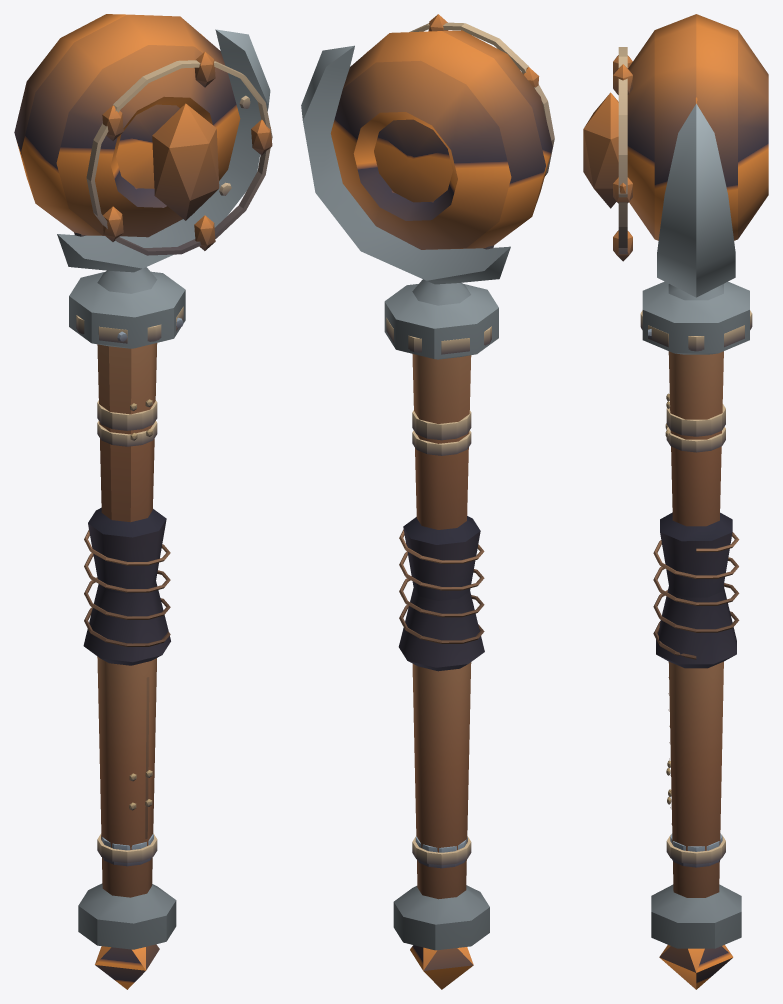
File: baston_runico_t5.glb
3 renders of one model, left to right at view 1: azimuth 30°, elevation 25°; view 2: azimuth 150°, elevation 25°; view 3: azimuth 270°, elevation 25°, orthographic.
Visible parts, largest first — view 1: baston_runico_t5_finished; view 2: baston_runico_t5_finished; view 3: baston_runico_t5_finished.
Boxes of the visible parts, bbox=[...] form: baston_runico_t5_finished: bbox=[14, 14, 272, 989]; baston_runico_t5_finished: bbox=[301, 14, 554, 989]; baston_runico_t5_finished: bbox=[583, 14, 768, 989].
Size of the model in its own units: 0.5762 by 2.15 by 0.3748.
Materials: 2 (2 with a texture image).
